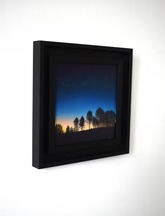painting: (31, 39, 134, 169)
